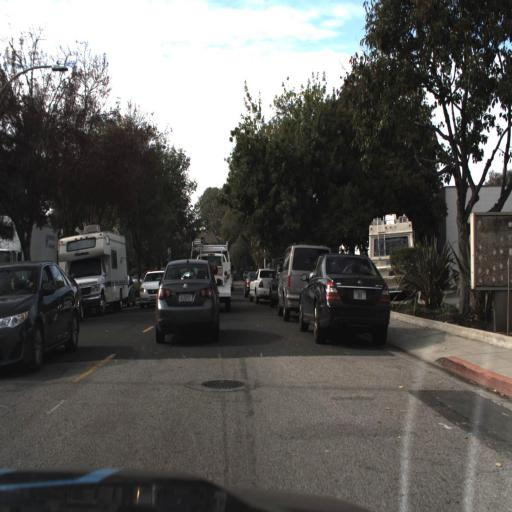car: (0, 261, 81, 381), (297, 253, 390, 351), (156, 252, 222, 344), (59, 226, 127, 312), (366, 208, 416, 303), (275, 241, 326, 320), (194, 234, 242, 316), (136, 263, 172, 308), (248, 264, 278, 304)
truck: (55, 216, 127, 304), (0, 193, 56, 287), (366, 212, 416, 304), (192, 236, 233, 310)
